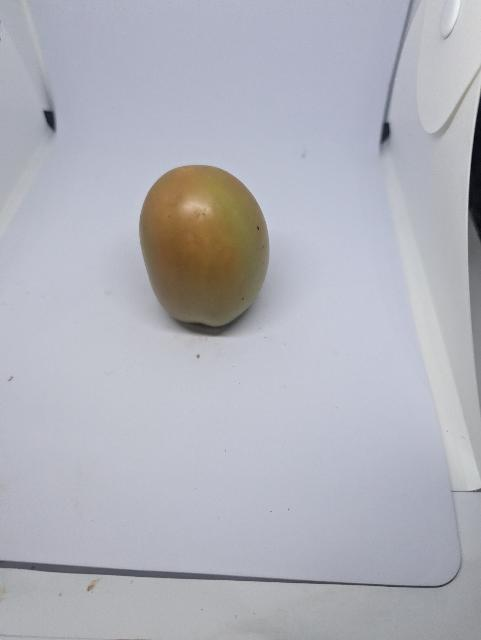breaker: (136, 162, 272, 330)
